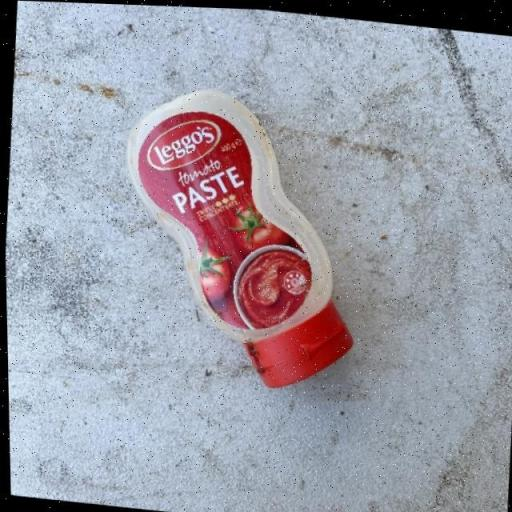plastic: (108, 76, 369, 394)
